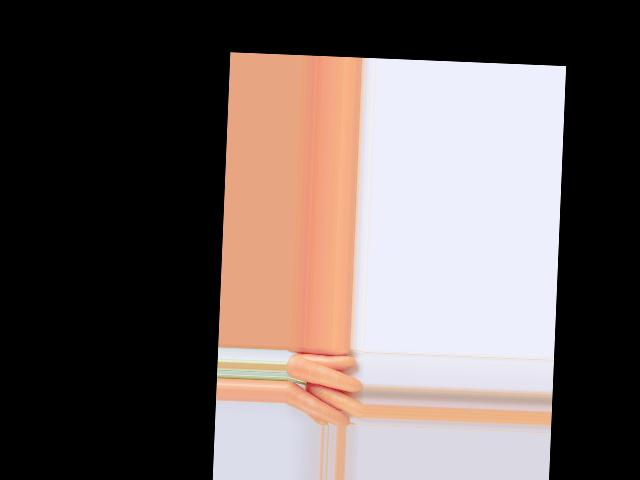carrot: (289, 348, 358, 370)
